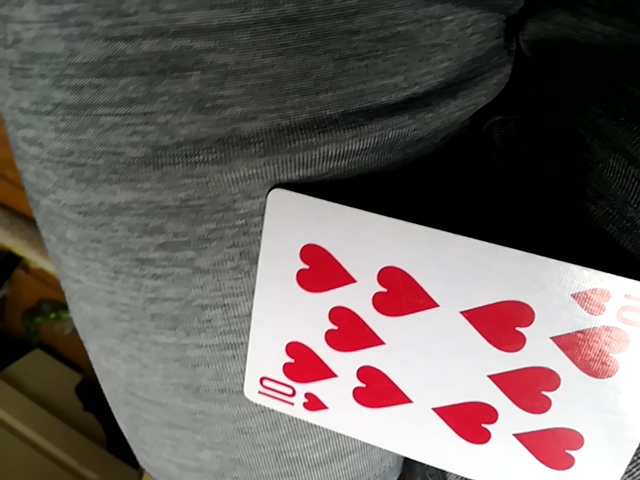hx 10: (242, 183, 637, 478)
